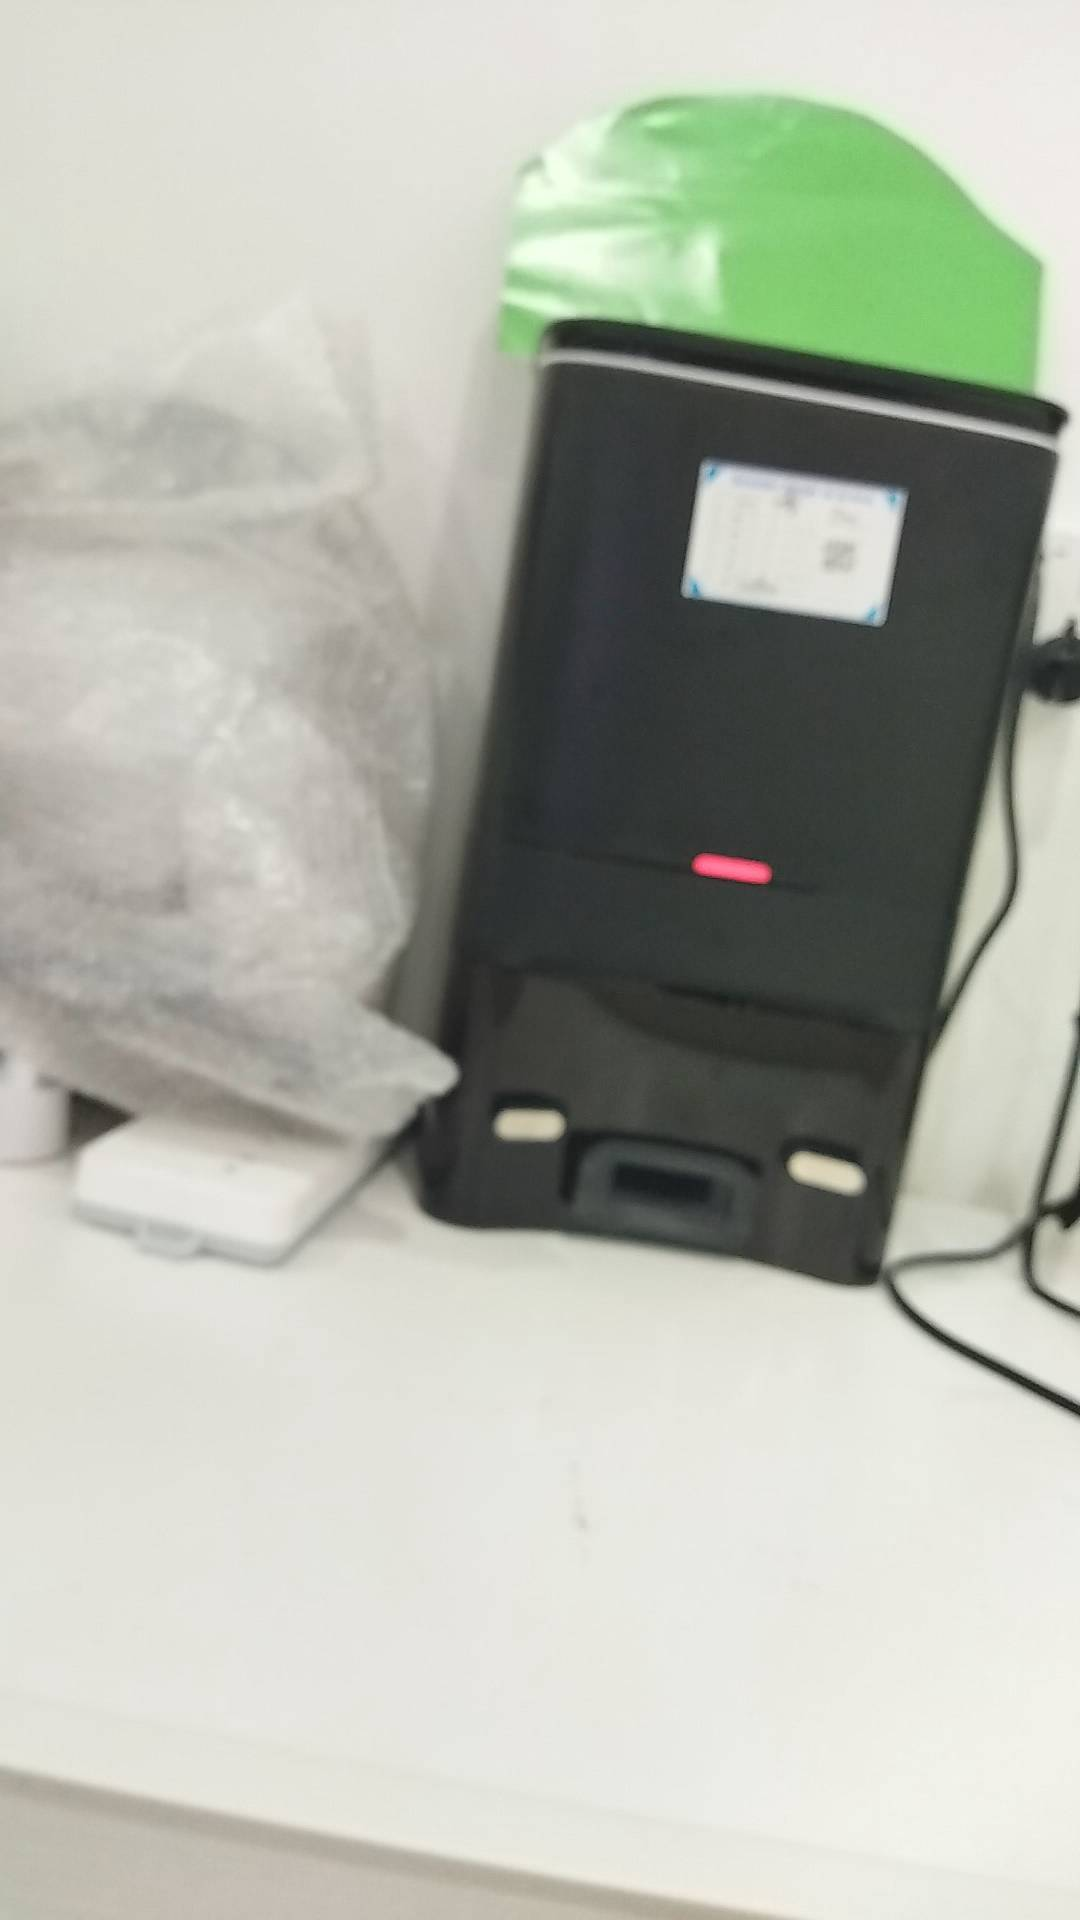dust collecting barrel: (425, 319, 1079, 1287)
